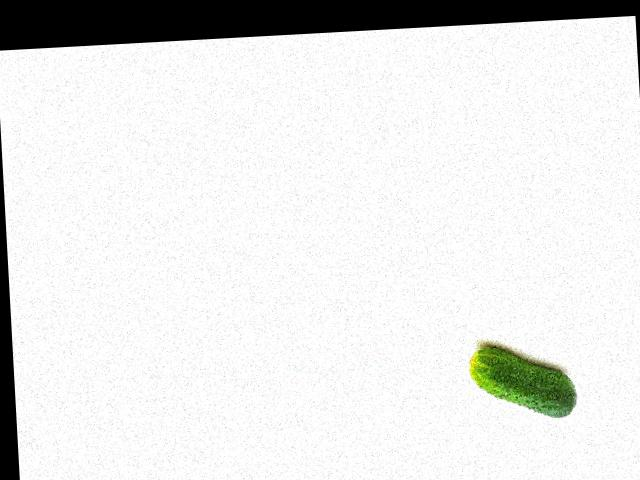cucumber: (468, 341, 577, 422)
